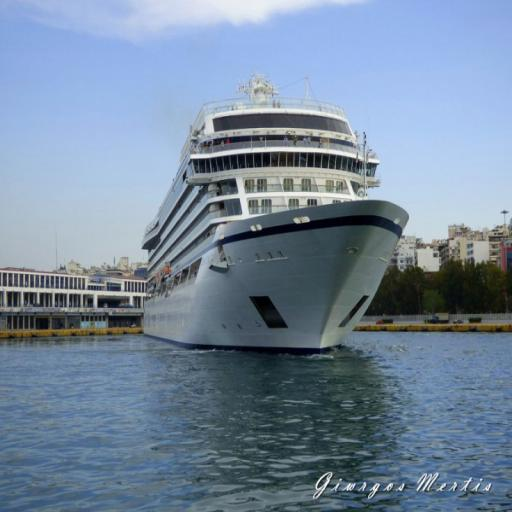cruises: (139, 74, 413, 362)
